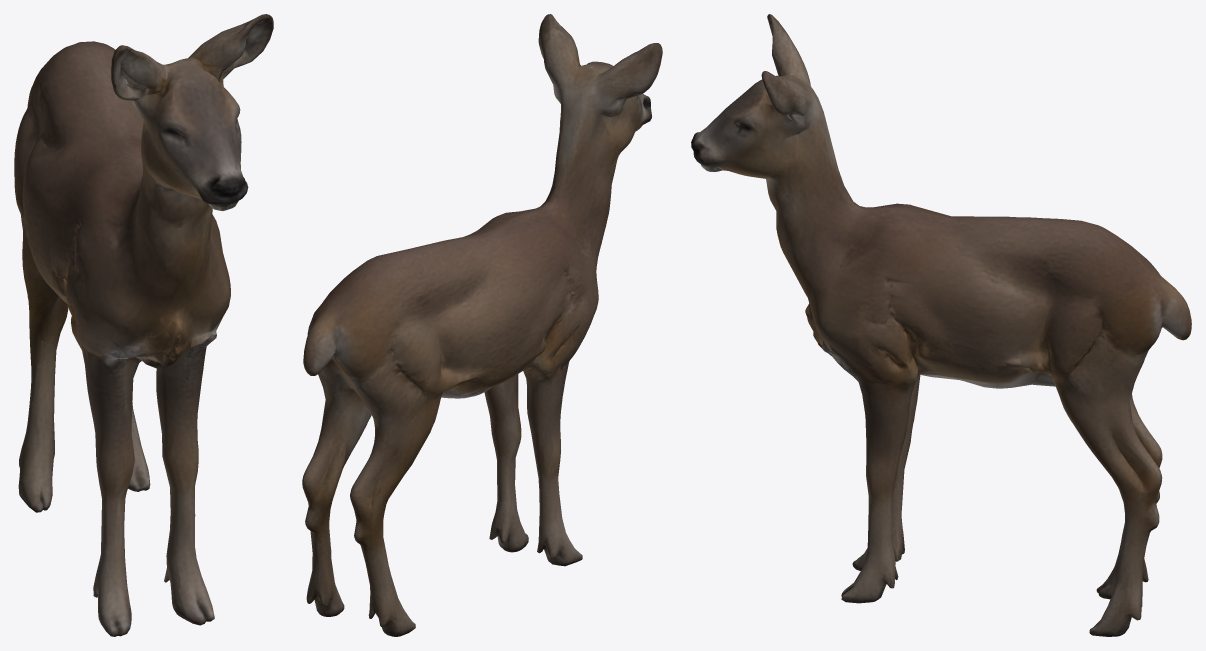
Rendered from roe-deer-v21-lod.glb.
3 renders of one model, left to right at view 1: azimuth 30°, elevation 25°; view 2: azimuth 150°, elevation 25°; view 3: azimuth 270°, elevation 25°, orthographic. The views are drawn at different scales.
Parts seen in each view (by area): view 1: geometry_0; view 2: geometry_0; view 3: geometry_0.
Part boxes in pixels (x1=…): geometry_0: x1=14, y1=14, x2=273, y2=636; geometry_0: x1=302, y1=14, x2=662, y2=636; geometry_0: x1=691, y1=14, x2=1191, y2=636.
Size of the model in its own units: 1.3 by 3.33 by 2.83.
Materials: 1 (1 with a texture image).
